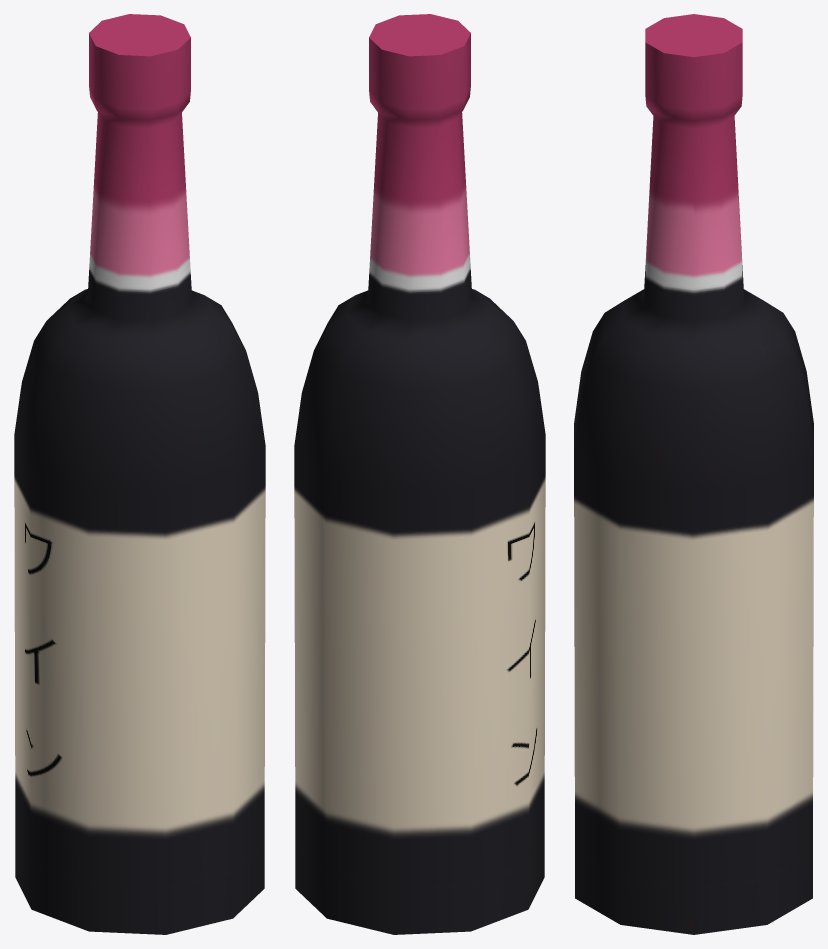
The model's file is wine.fbx.
3 views of the same model, side by side, from view 1: azimuth 30°, elevation 25°; view 2: azimuth 150°, elevation 25°; view 3: azimuth 270°, elevation 25° (orthographic).
Parts seen in each view (by area): view 1: wine; view 2: wine; view 3: wine.
Boxes of the visible parts, x1,y1,x2,y2 form: wine: (14, 14, 265, 934); wine: (294, 14, 545, 934); wine: (574, 14, 813, 934).
Bounding box in the file's own units: 5.39 × 19.96 × 5.13.
